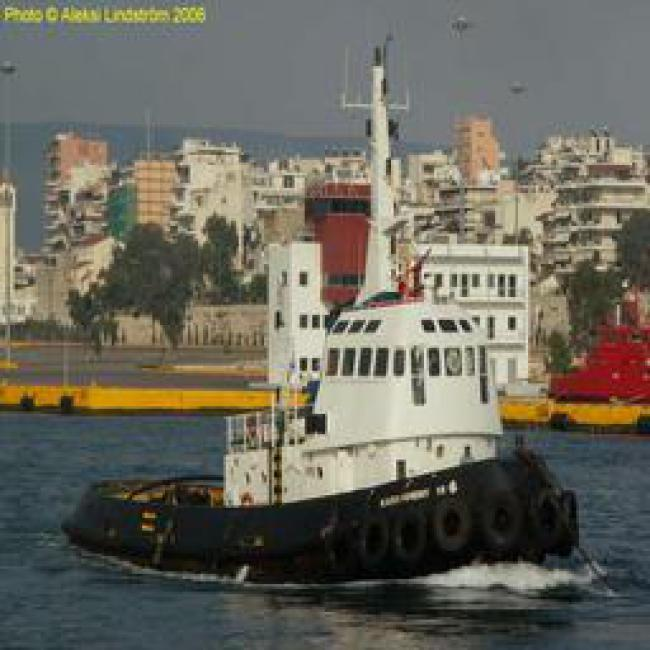Ship: (60, 268, 581, 583)
